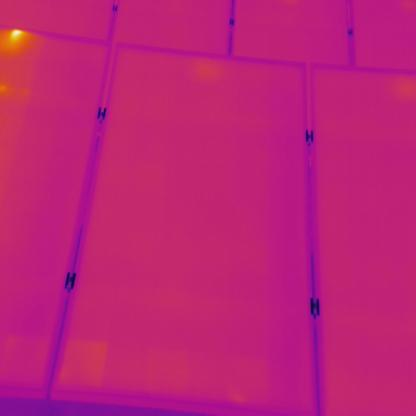hotspot: (7, 28, 26, 50)
